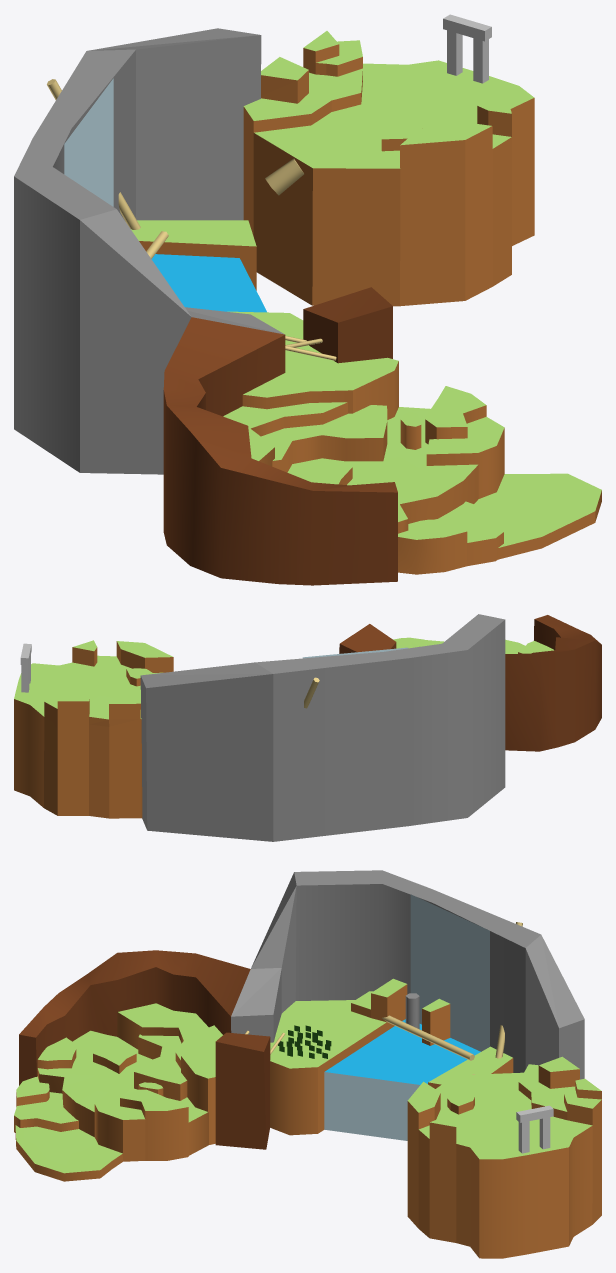
File: level 1 completo volumetria.FBX
3 views of the same model, one above another, from view 1: azimuth 30°, elevation 25°; view 2: azimuth 150°, elevation 25°; view 3: azimuth 270°, elevation 25° (orthographic). The views are drawn at different scales.
Visible parts, largest first — view 1: pared, altura 13 (×2), altura 14, 6 (×3), 8-3, 4, 1, pared 2, Box001, 5, 8-2, Plane002 (+6 smaller); view 2: pared, altura 13 (×2), altura 15, altura 14, pared 2, portal, 5; view 3: pared, altura 13 (×2), 8-3, Box001, Plane002, altura 14, pared 2, 6 (×2), 4, 5, 1, 7 (+8 smaller).
Boxes of the visible parts, left/top/right/bottom form: pared: left=14, top=28, right=397, bottom=585; altura 13 (×2): left=243, top=60, right=534, bottom=306; altura 14: left=315, top=40, right=511, bottom=306; 6 (×3): left=261, top=386, right=486, bottom=472; 8-3: left=227, top=311, right=398, bottom=419; 4: left=287, top=407, right=478, bottom=533; 1: left=474, top=473, right=601, bottom=559; pared 2: left=303, top=287, right=392, bottom=363; Box001: left=151, top=254, right=266, bottom=312; 5: left=298, top=417, right=504, bottom=498; 8-2: left=131, top=220, right=256, bottom=290; Plane002: left=64, top=78, right=113, bottom=206; pared: left=140, top=614, right=601, bottom=841; altura 13 (×2): left=14, top=655, right=162, bottom=818; altura 15: left=57, top=692, right=140, bottom=818; altura 14: left=44, top=640, right=173, bottom=815; pared 2: left=339, top=624, right=396, bottom=653; portal: left=20, top=643, right=31, bottom=692; 5: left=394, top=637, right=553, bottom=653; pared: left=19, top=870, right=584, bottom=1085; altura 13 (×2): left=418, top=1064, right=592, bottom=1258; 8-3: left=181, top=1000, right=405, bottom=1144; Box001: left=324, top=1019, right=480, bottom=1140; Plane002: left=410, top=894, right=489, bottom=1051; altura 14: left=407, top=1081, right=601, bottom=1242; pared 2: left=215, top=1032, right=270, bottom=1149; 6 (×2): left=120, top=1034, right=188, bottom=1160; 4: left=37, top=1030, right=208, bottom=1155; 5: left=37, top=1037, right=145, bottom=1161; 1: left=15, top=1125, right=122, bottom=1181; 7: left=117, top=1003, right=208, bottom=1068.
Size of the model in its own units: 162 by 66.07 by 192.
